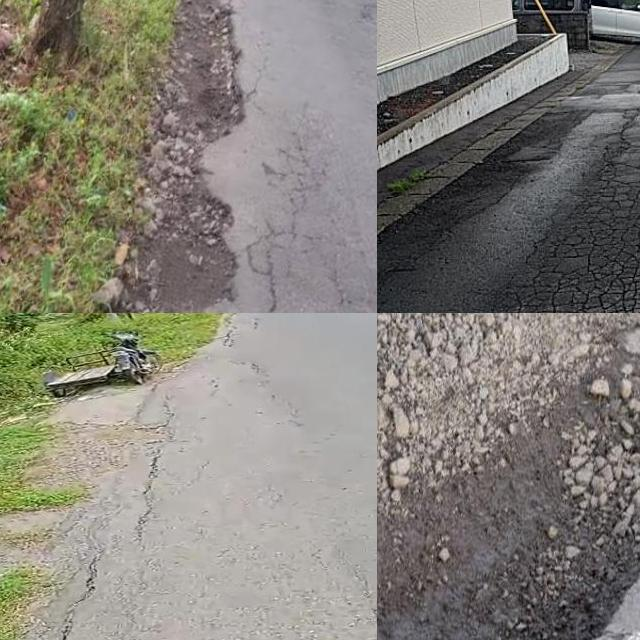Pinggir: (377, 313, 640, 640), (70, 0, 254, 313), (5, 397, 202, 640)
Retak Buaya: (502, 139, 640, 313)
